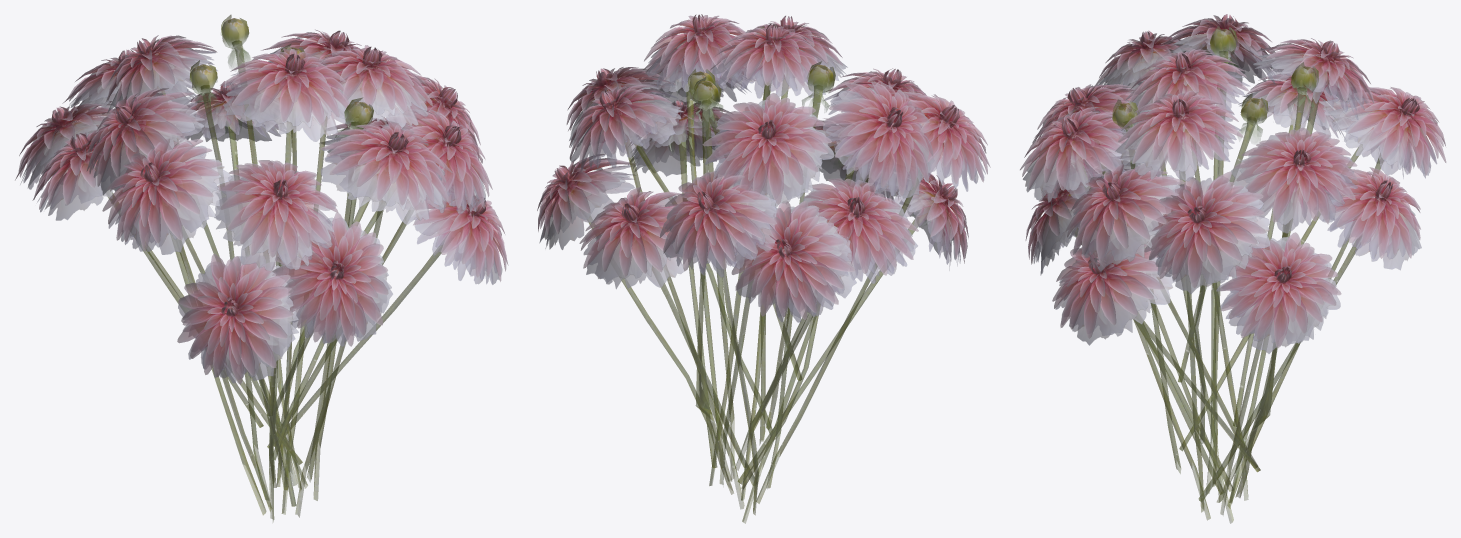
Rendered from preview.glb.
The picture shows the model from 3 angles, left to right: view 1: azimuth 30°, elevation 25°; view 2: azimuth 150°, elevation 25°; view 3: azimuth 270°, elevation 25°; orthographic projection. The views are drawn at different scales.
Visible parts, largest first — view 1: Flower_Dahlia_pinnata_H_Flower_glb, Flower_Dahlia_pinnata_H_Leaf_glb; view 2: Flower_Dahlia_pinnata_H_Flower_glb, Flower_Dahlia_pinnata_H_Leaf_glb; view 3: Flower_Dahlia_pinnata_H_Flower_glb, Flower_Dahlia_pinnata_H_Leaf_glb.
Boxes of the visible parts, bbox=[...] form: Flower_Dahlia_pinnata_H_Flower_glb: bbox=[15, 15, 508, 384]; Flower_Dahlia_pinnata_H_Leaf_glb: bbox=[106, 40, 442, 521]; Flower_Dahlia_pinnata_H_Flower_glb: bbox=[537, 14, 990, 322]; Flower_Dahlia_pinnata_H_Leaf_glb: bbox=[588, 78, 931, 523]; Flower_Dahlia_pinnata_H_Flower_glb: bbox=[1020, 14, 1446, 353]; Flower_Dahlia_pinnata_H_Leaf_glb: bbox=[1075, 51, 1383, 523].
Bounding box in the file's own units: 0.3669 × 0.443 × 0.3657.
Materials: 2 (2 with a texture image).
